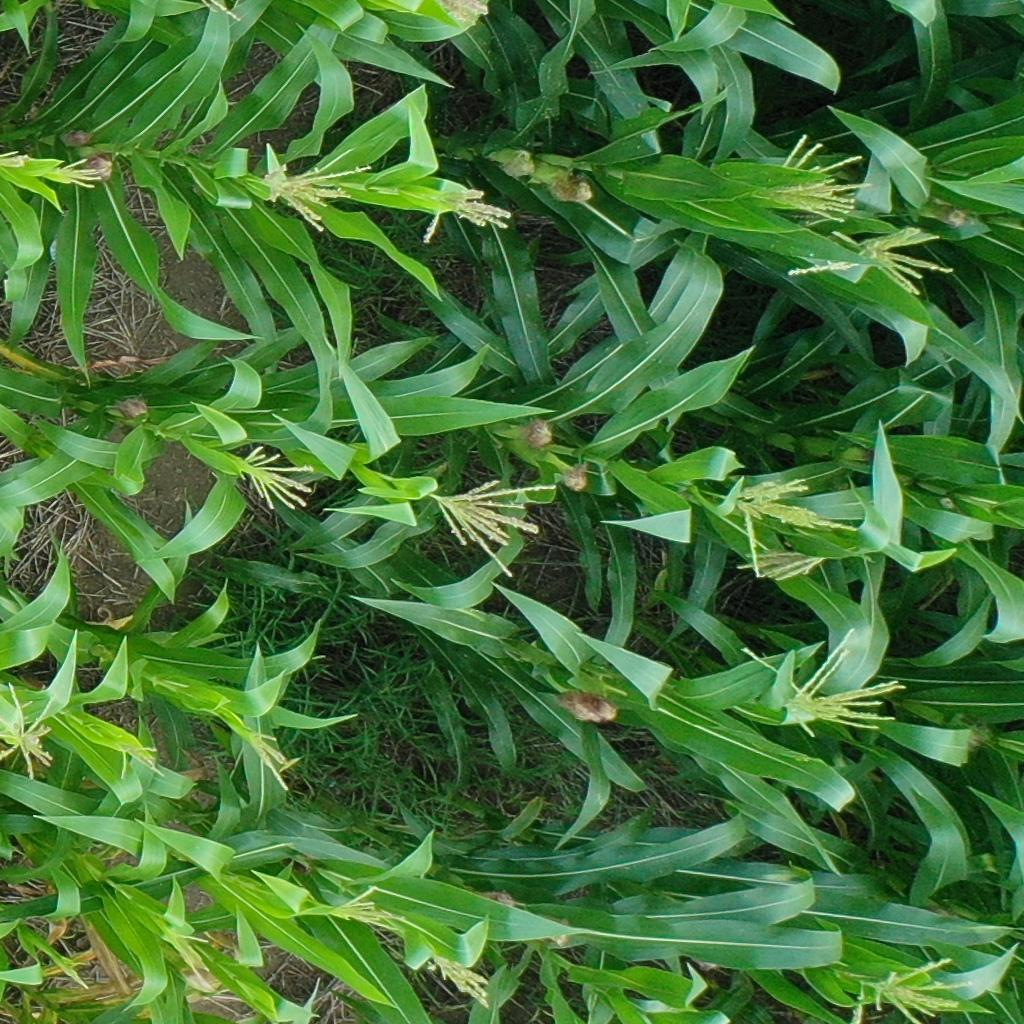Tassel: (734, 627, 906, 737), (726, 466, 857, 576), (789, 220, 964, 301), (429, 474, 558, 579), (264, 146, 376, 241), (776, 126, 873, 228), (851, 951, 965, 1024), (234, 439, 324, 516), (1, 680, 62, 779), (420, 180, 510, 247), (734, 546, 828, 590), (428, 949, 494, 1008), (242, 727, 299, 793), (164, 921, 217, 986), (328, 885, 402, 931), (53, 153, 112, 200), (116, 740, 173, 784), (438, 1, 495, 33), (1, 143, 33, 171)
